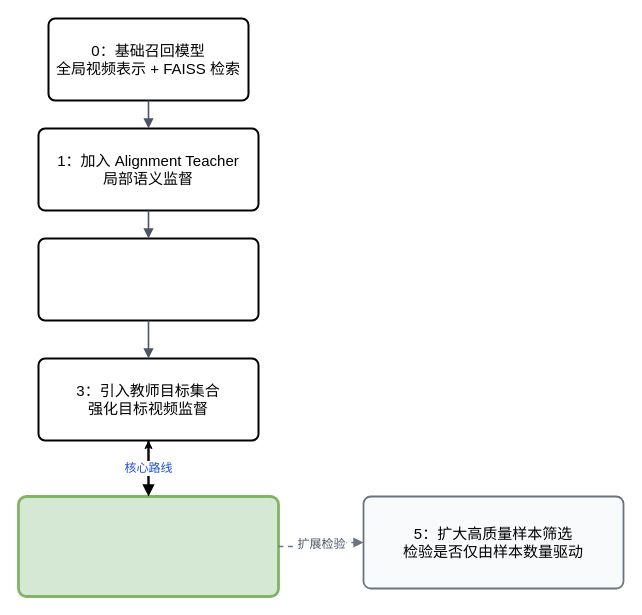
Image size: 642x615. Some labels were removed from this diagram. Here are the shapes that lost their labels. From the top down, the centre of each, then its label:
At [148,279]: "2：加入门控校准 约束教师噪声影响".
At [148,546]: "4：Alignment + Multiview 多视角视频特征融合 当前主结果".
